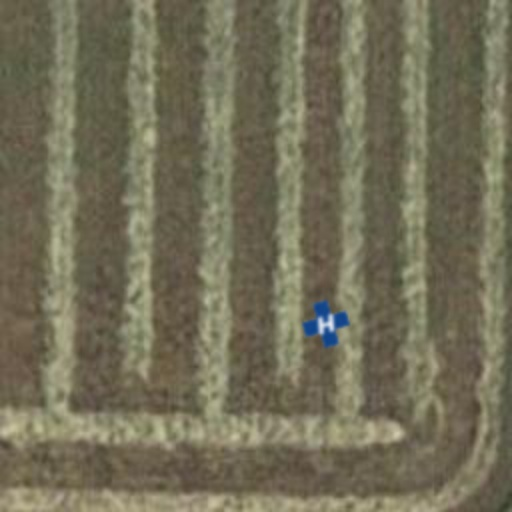cross: (296, 294, 356, 354)
